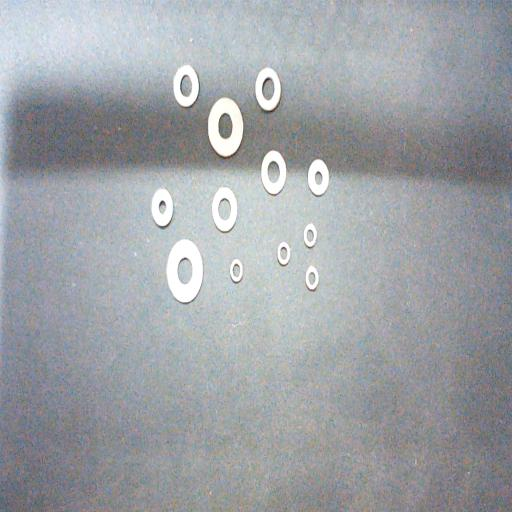washer: (167, 240, 203, 304), (208, 98, 244, 157), (212, 187, 238, 233), (255, 67, 281, 112), (260, 151, 286, 195), (173, 65, 199, 108), (151, 189, 174, 228), (308, 158, 329, 196), (306, 266, 319, 292), (303, 224, 317, 248), (230, 259, 243, 283), (278, 242, 291, 266)
